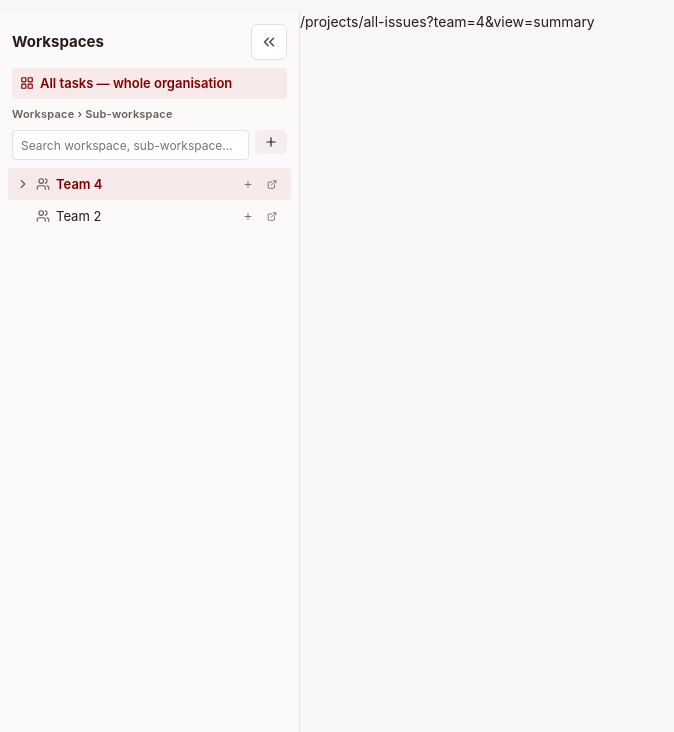
it: Projects tree: Workspace > Sub-workspace, each opening its tasks › keeps the view (Kanban, Tasks or Summary) and shows which row is open
This screenshot has width=674, height=732.
Click the button named "Expand Team 4".
click(23, 184)  # box [14,175,32,193]
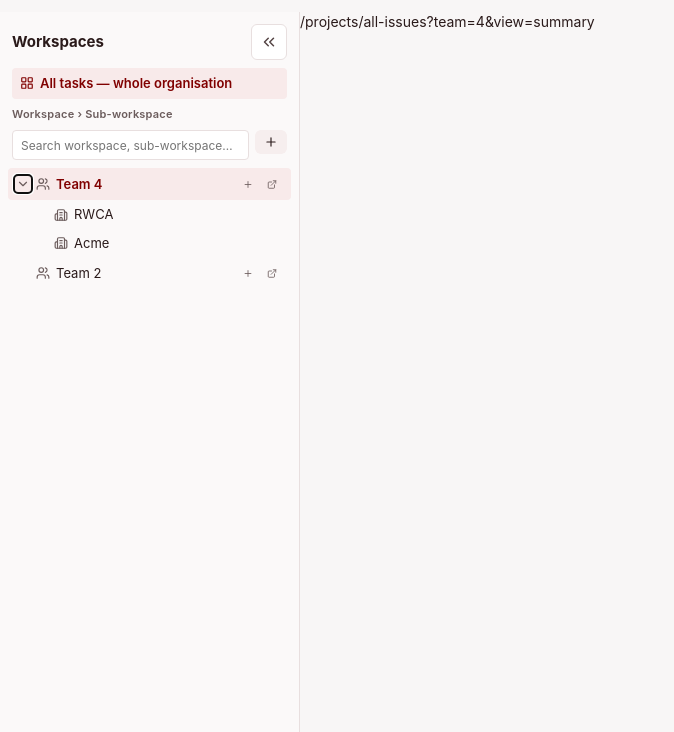
Click the text "Acme".
click(92, 243)  # box [74,234,109,252]
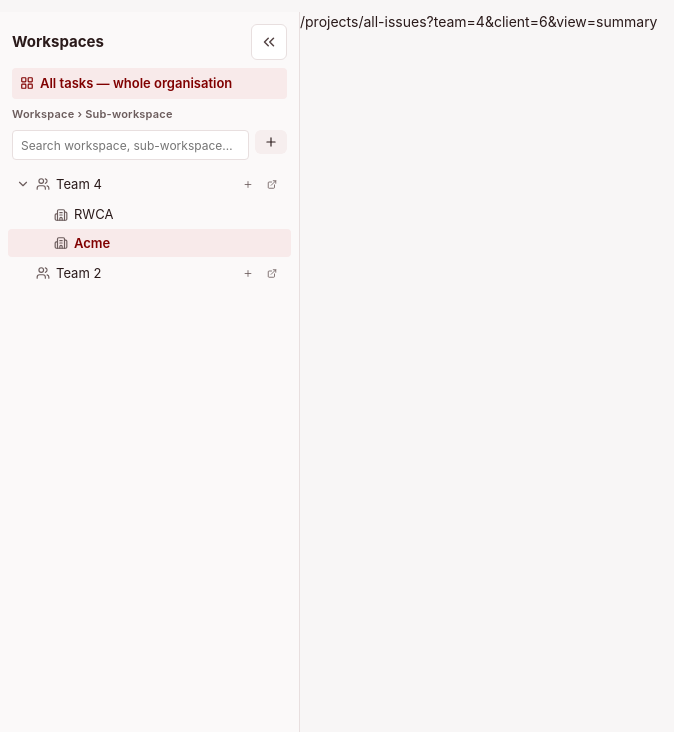
Expected: the text with test id "where" reads "/projects/all-issues?team=4&client=6&view=summary", [300,13,658,30]
